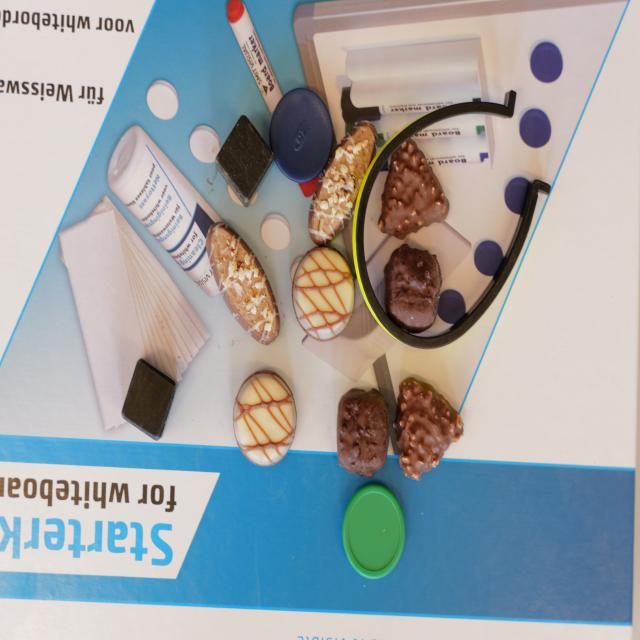Amandina: (202, 213, 283, 347), (307, 118, 375, 244)
Creme_brulee: (230, 368, 298, 473), (291, 248, 357, 342)
Tentation_noir: (383, 243, 448, 344), (334, 388, 394, 474)
Triangolo: (395, 372, 462, 491), (377, 136, 451, 243)
